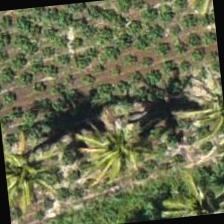Kelapa_Sawit: (59, 98, 158, 197), (3, 139, 73, 223)
